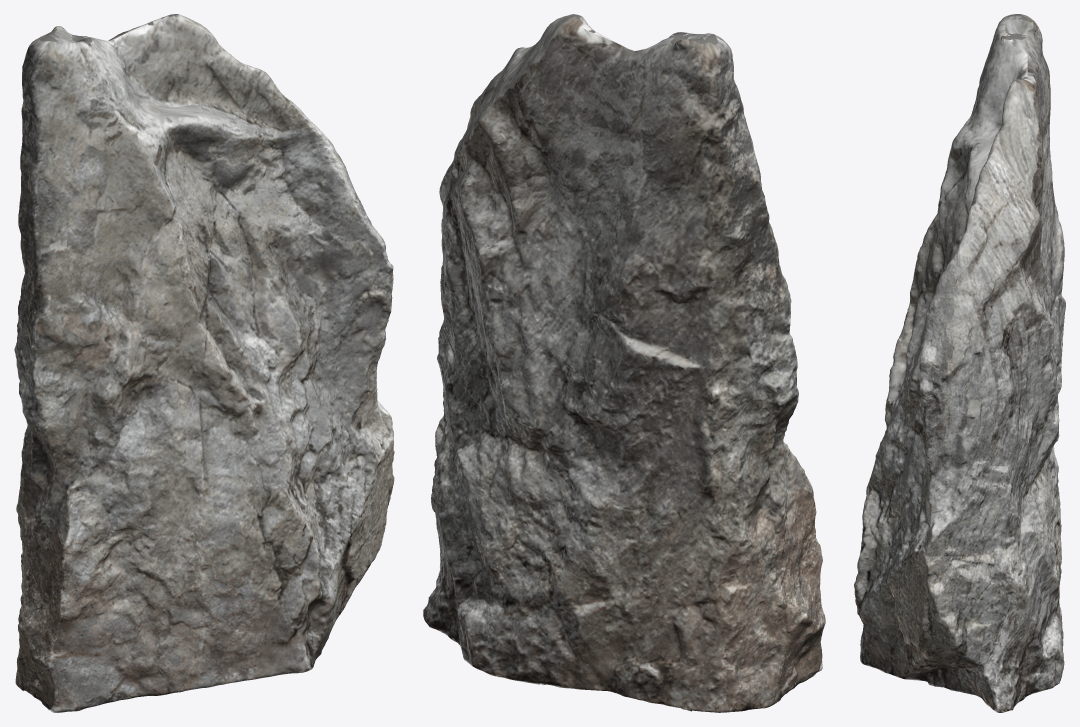
The model's file is sparse3.glb.
The picture shows the model from 3 angles, left to right: view 1: azimuth 30°, elevation 25°; view 2: azimuth 150°, elevation 25°; view 3: azimuth 270°, elevation 25°; orthographic projection. The views are drawn at different scales.
Size of the model in its own units: 3.16 by 5.28 by 1.74.
1 material, 1 textured.
